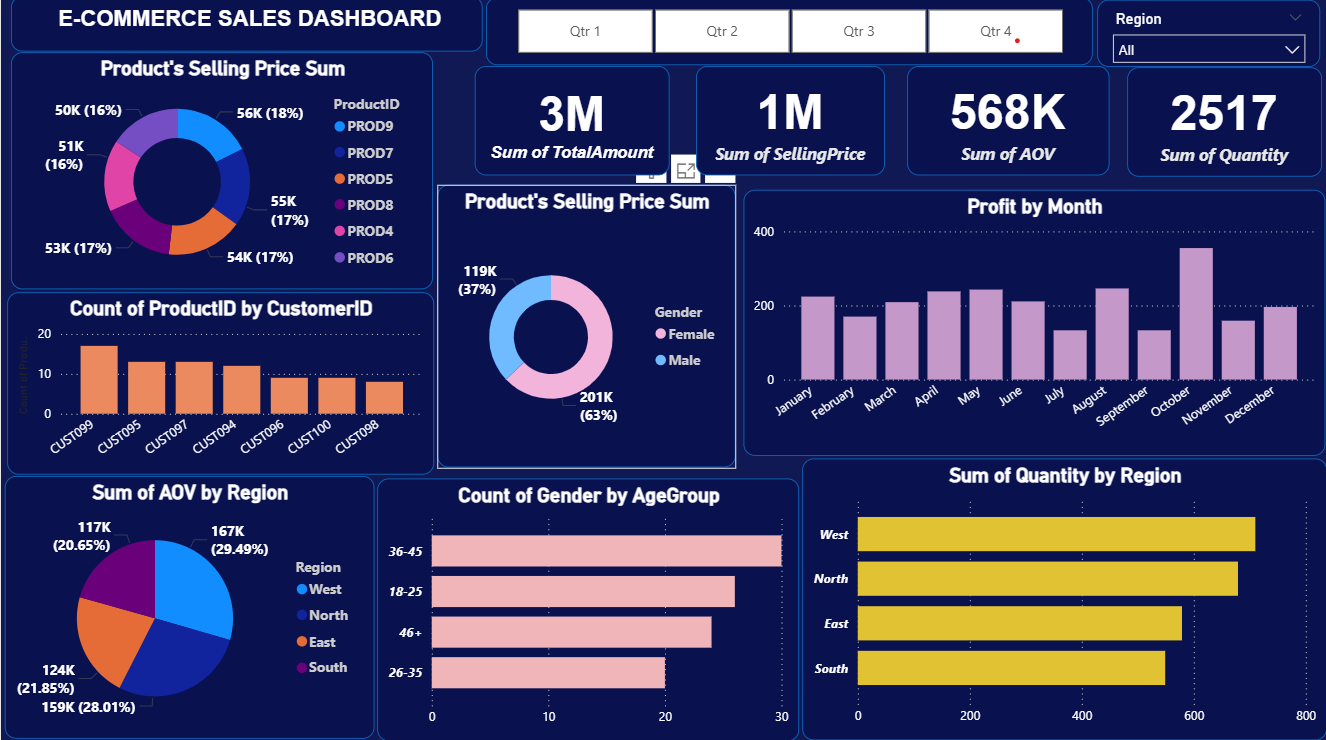

Layout of this report page (visuals, bound fields, positions):
{"tool":"powerbi","page":{"name":"Page 1","canvas":[1280,720],"ordinal":0},"visuals":[{"type":"textbox","box":[9.6,0,455.6,53.5],"z":0},{"type":"columnChart","title":"Profit by Month","fields":{"Category":["Customers.SignupDate.Variation.Date Hierarchy.Month","Customers.SignupDate.Variation.Date Hierarchy.Day","Orders.OrderDate.Variation.Date Hierarchy.Month","Orders.OrderDate.Variation.Date Hierarchy.Day"],"Y":["Sum(Orders.Quantity)"]},"box":[716.3,186.6,561.2,256.6],"z":1000},{"type":"donutChart","title":"Product''s Selling Price Sum","fields":{"Category":["Orders.ProductID"],"Y":["Sum(Orders.SellingPrice)"]},"box":[9.6,54.9,407.5,229.2],"z":2000},{"type":"barChart","fields":{"Category":["Customers.Region"],"Y":["Sum(Orders.Quantity)"]},"box":[773.9,446,506.3,271.7],"z":3000},{"type":"donutChart","title":"Product''s Selling Price Sum","fields":{"Y":["Sum(Orders.SellingPrice)"],"Category":["Customers.Gender"]},"box":[421.3,182.5,288.2,273.1],"z":4000},{"type":"card","fields":{"Values":["Sum(Orders.TotalAmount)"]},"box":[456.9,67.2,188,105.7],"z":5000},{"type":"card","fields":{"Values":["Sum(Orders.SellingPrice)"]},"box":[671,67.2,182.5,105.7],"z":6000},{"type":"card","fields":{"Values":["Sum(Orders.Quantity)"]},"box":[1086.8,68.6,188,105.7],"z":7000},{"type":"card","fields":{"Values":["Sum(Orders.AOV)"]},"box":[874.1,67.2,194.9,105.7],"z":8000},{"type":"barChart","fields":{"Category":["Customers.AgeGroup"],"Y":["CountNonNull(Customers.Gender)"]},"box":[363.6,466.1,407.5,253.9],"z":9000},{"type":"columnChart","fields":{"Category":["Customers.CustomerID"],"Y":["CountNonNull(Orders.ProductID)"]},"box":[5.5,285.4,411.7,175.6],"z":10000},{"type":"pieChart","fields":{"Y":["Sum(Orders.AOV)"],"Category":["Customers.Region"]},"box":[4.1,463.8,356.8,253.9],"z":11000},{"type":"slicer","fields":{"Values":["Orders.OrderDate.Variation.Date Hierarchy.Quarter"]},"box":[467.9,1.4,585.9,65.9],"z":12000},{"type":"slicer","fields":{"Values":["Customers.Region"]},"box":[1058,4.1,215.4,64.5],"z":13000}]}

Visuals, with their boxes in screenshot pixels (x1, y1, x2, y2), scaled from the page's 1280x720 canvas onto the 1326x740 screenshot:
textbox: {"x1": 10, "y1": 0, "x2": 482, "y2": 55}
"Profit by Month" columnChart: {"x1": 742, "y1": 192, "x2": 1323, "y2": 456}
"Product''s Selling Price Sum" donutChart: {"x1": 10, "y1": 56, "x2": 432, "y2": 292}
barChart - Customers.Region x Sum(Orders.Quantity): {"x1": 802, "y1": 458, "x2": 1325, "y2": 738}
"Product''s Selling Price Sum" donutChart: {"x1": 436, "y1": 188, "x2": 735, "y2": 468}
card - Sum(Orders.TotalAmount): {"x1": 473, "y1": 69, "x2": 668, "y2": 178}
card - Sum(Orders.SellingPrice): {"x1": 695, "y1": 69, "x2": 884, "y2": 178}
card - Sum(Orders.Quantity): {"x1": 1126, "y1": 71, "x2": 1321, "y2": 179}
card - Sum(Orders.AOV): {"x1": 906, "y1": 69, "x2": 1107, "y2": 178}
barChart - Customers.AgeGroup x CountNonNull(Customers.Gender): {"x1": 377, "y1": 479, "x2": 799, "y2": 739}
columnChart - Customers.CustomerID x CountNonNull(Orders.ProductID): {"x1": 6, "y1": 293, "x2": 432, "y2": 474}
pieChart - Sum(Orders.AOV) x Customers.Region: {"x1": 4, "y1": 477, "x2": 374, "y2": 738}
slicer - Orders.OrderDate.Variation.Date Hierarchy.Quarter: {"x1": 485, "y1": 1, "x2": 1092, "y2": 69}
slicer - Customers.Region: {"x1": 1096, "y1": 4, "x2": 1319, "y2": 71}
